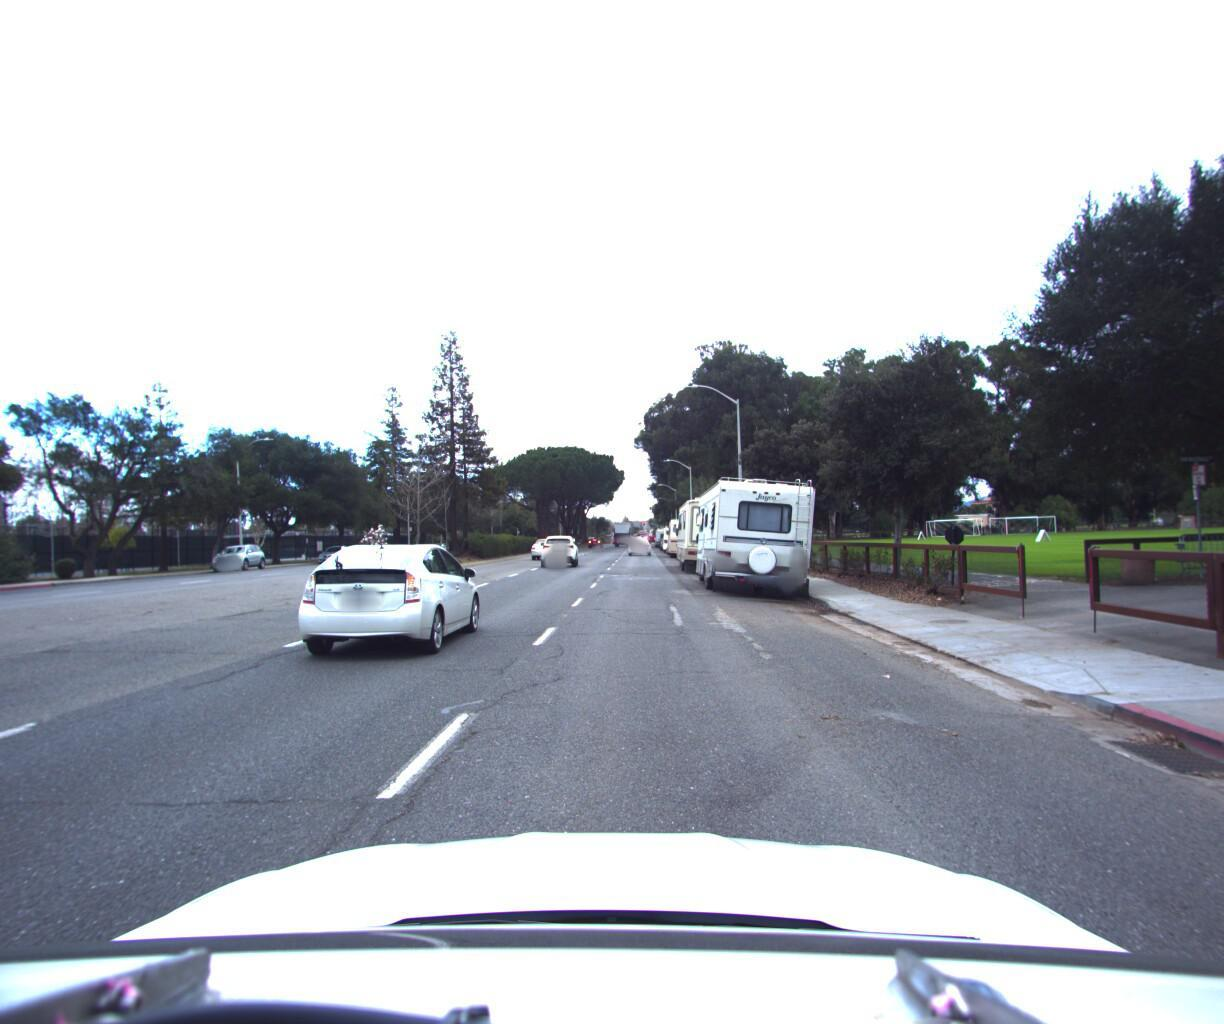car: (282, 536, 488, 666), (205, 539, 271, 573), (538, 530, 578, 562), (314, 540, 357, 562), (526, 532, 561, 556), (625, 530, 649, 550)
other_vehicle: (686, 465, 822, 600), (673, 485, 749, 575), (664, 508, 703, 554), (659, 520, 683, 548)
